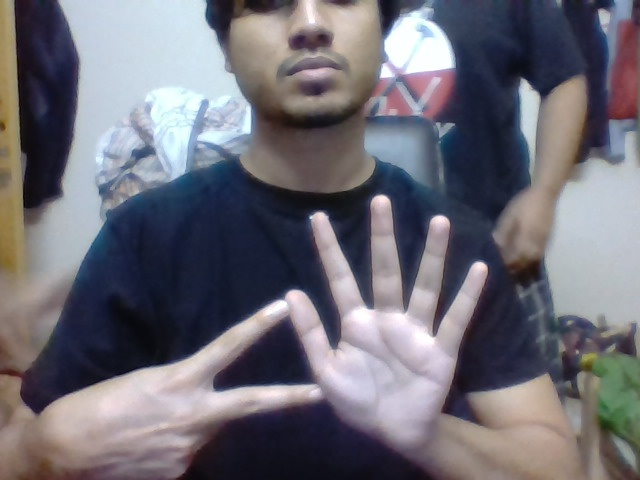N: (173, 296, 283, 424)
